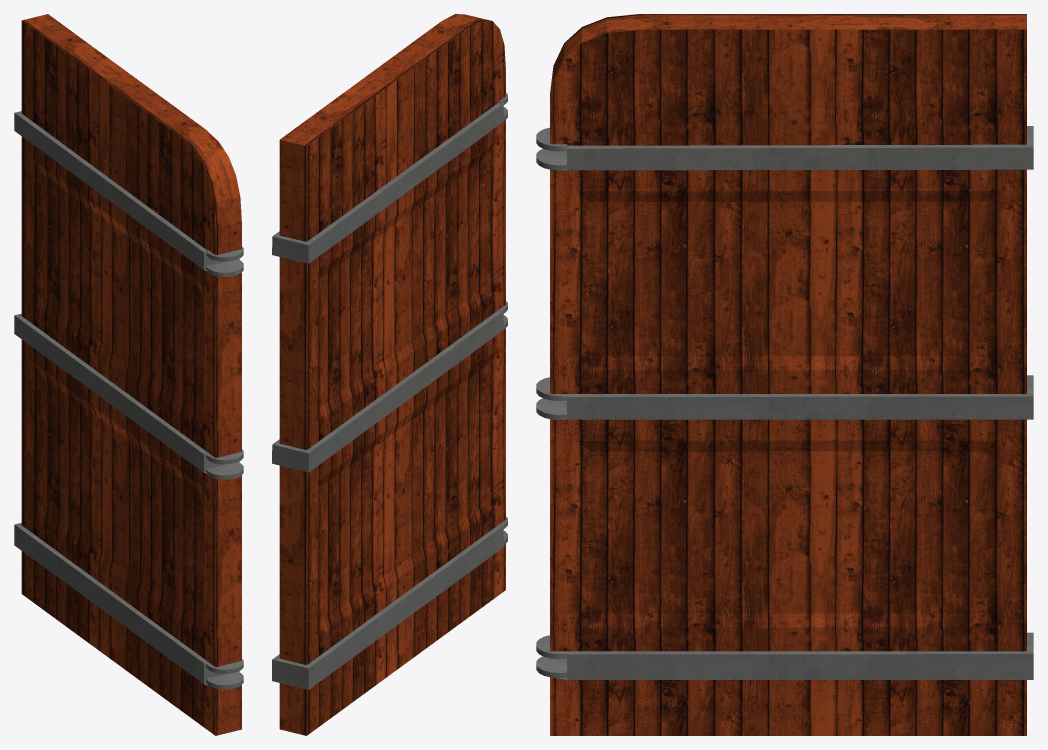
Rendered from Door_Left.obj.
3 views of the same model, side by side, from view 1: azimuth 30°, elevation 25°; view 2: azimuth 150°, elevation 25°; view 3: azimuth 270°, elevation 25° (orthographic). The views are drawn at different scales.
Parts seen in each view (by area): view 1: DoorLeft.001_DoorLeft.003_DoorLeft.001_DoorLeft.000; view 2: DoorLeft.001_DoorLeft.003_DoorLeft.001_DoorLeft.000; view 3: DoorLeft.001_DoorLeft.003_DoorLeft.001_DoorLeft.000.
Part boxes in pixels (box(x1,y1,x2,y2)): DoorLeft.001_DoorLeft.003_DoorLeft.001_DoorLeft.000: box(14, 14, 243, 735); DoorLeft.001_DoorLeft.003_DoorLeft.001_DoorLeft.000: box(272, 14, 507, 735); DoorLeft.001_DoorLeft.003_DoorLeft.001_DoorLeft.000: box(536, 14, 1033, 735).
Bounding box in the file's own units: 4.64 × 71.41 × 45.58.
